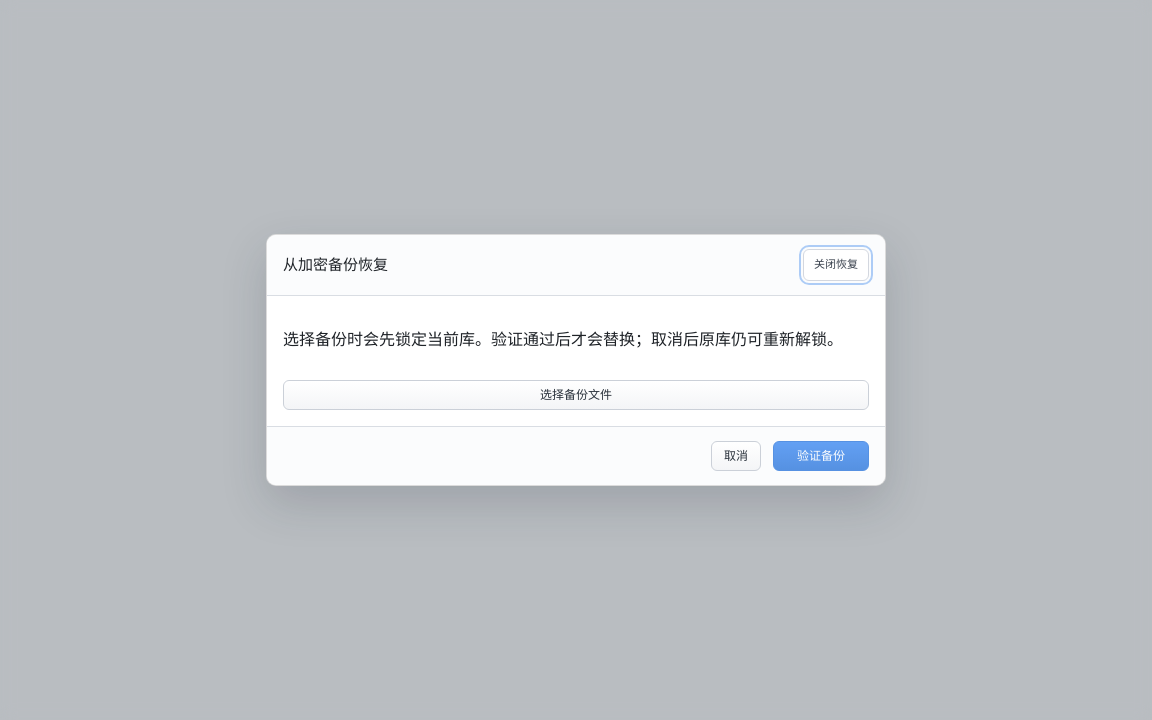
Test: encrypted backup recovery boundaries › preserves the picker failure when even the subsequent status refresh fails
The width and height of the screenshot is (1152, 720).
Click the button "选择备份文件" at (576, 395), box x1=283 y1=380 x2=869 y2=410
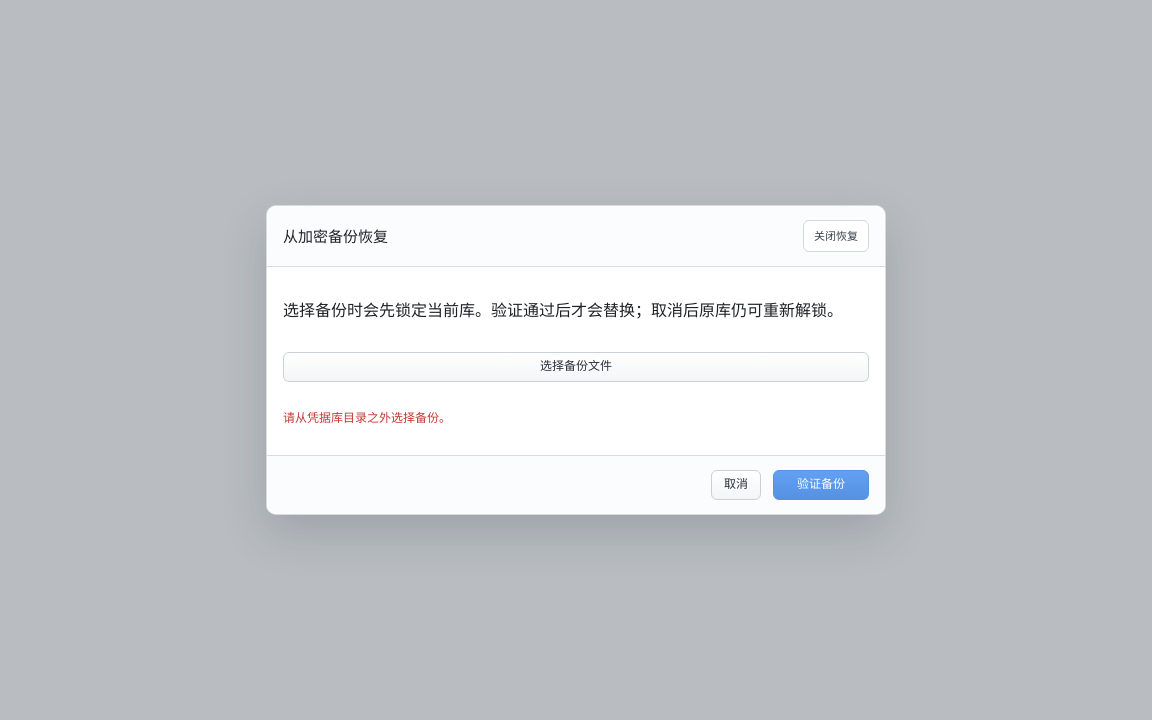
Expected: the button "选择备份文件" is enabled, x1=283 y1=352 x2=869 y2=382
Result: the message shows "请从凭据库目录之外选择备份" at x1=283 y1=410 x2=451 y2=425
